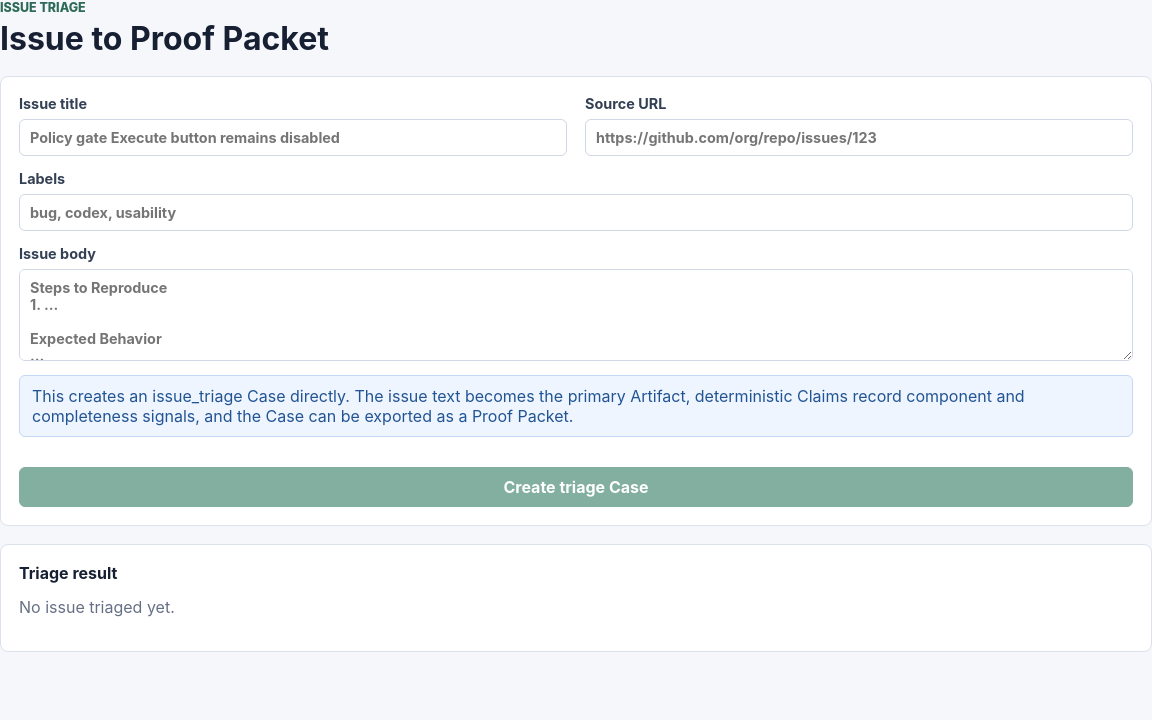
Test case: IssueTriage › shows missing triage signals for incomplete reports
In the field labelled "Issue title": [293, 137] box x1=19 y1=119 x2=567 y2=156, type "MCP review tool fails"
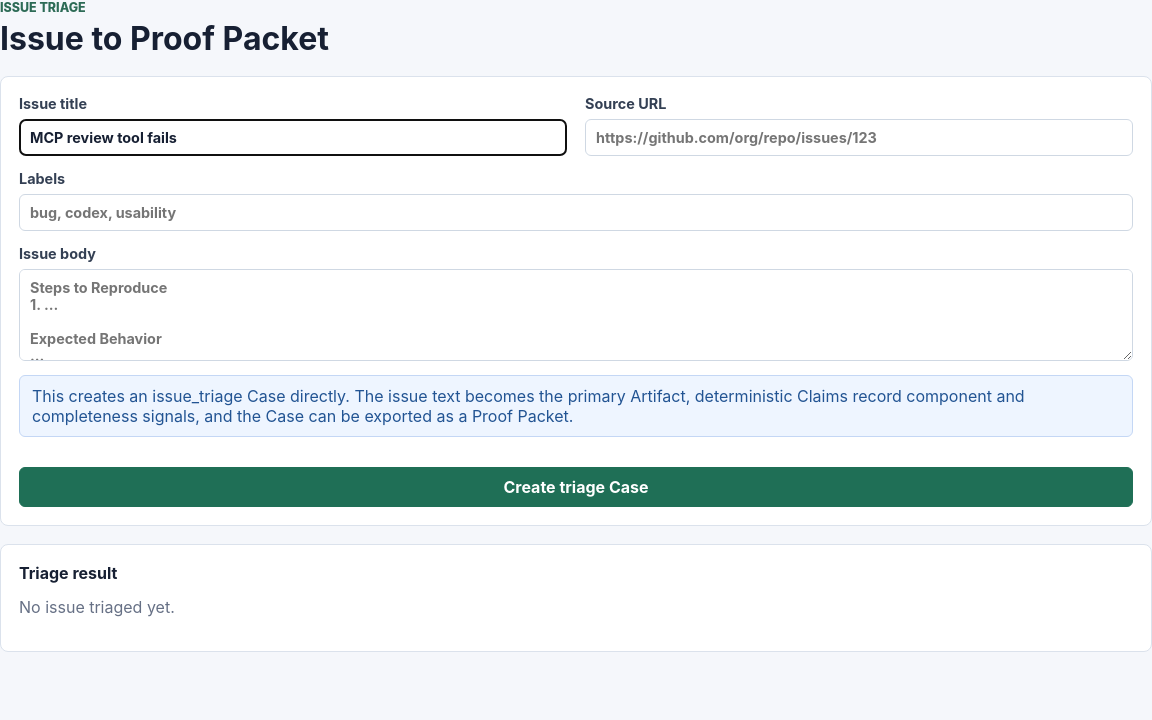
Click the button "Create triage Case": [576, 487] box x1=19 y1=467 x2=1133 y2=507
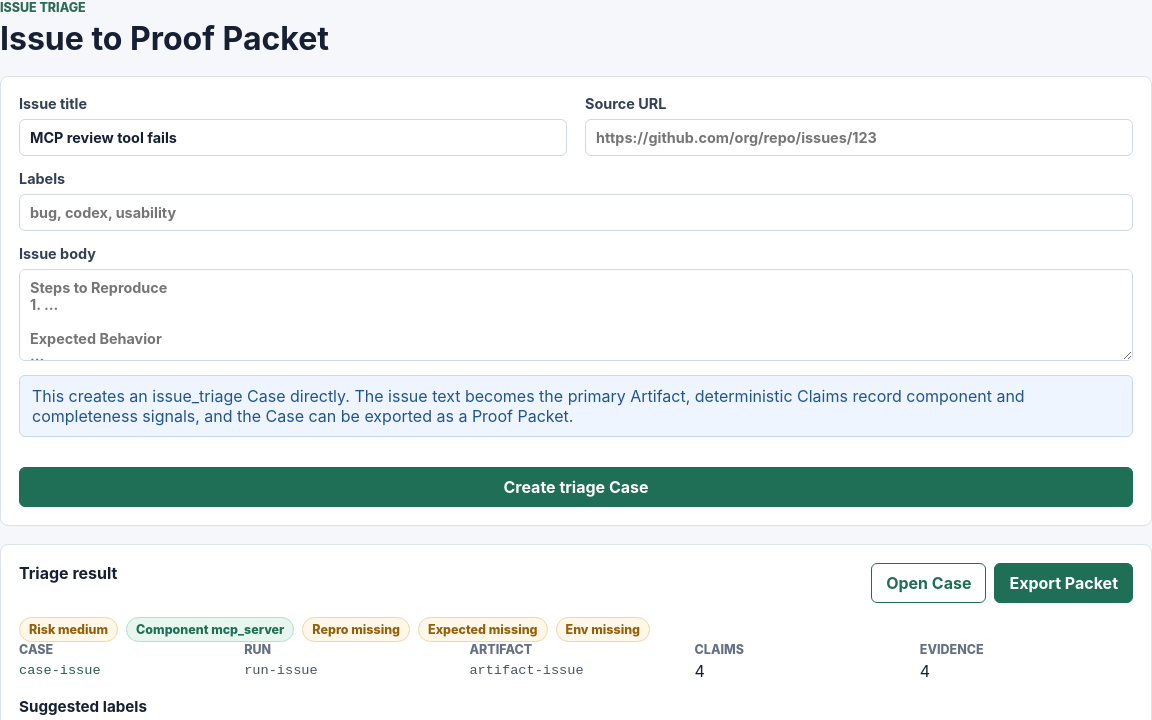
Check: the text "Risk medium" is shown, box x1=19 y1=617 x2=118 y2=642
Check: the text "Repro missing" is shown, box x1=302 y1=617 x2=410 y2=642
Check: the text "Expected missing" is shown, box x1=418 y1=617 x2=548 y2=642
